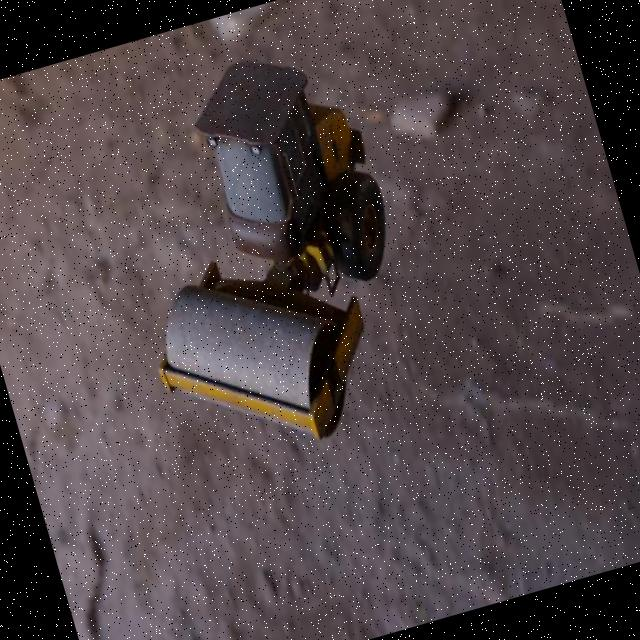Roller: (81, 32, 442, 478)
